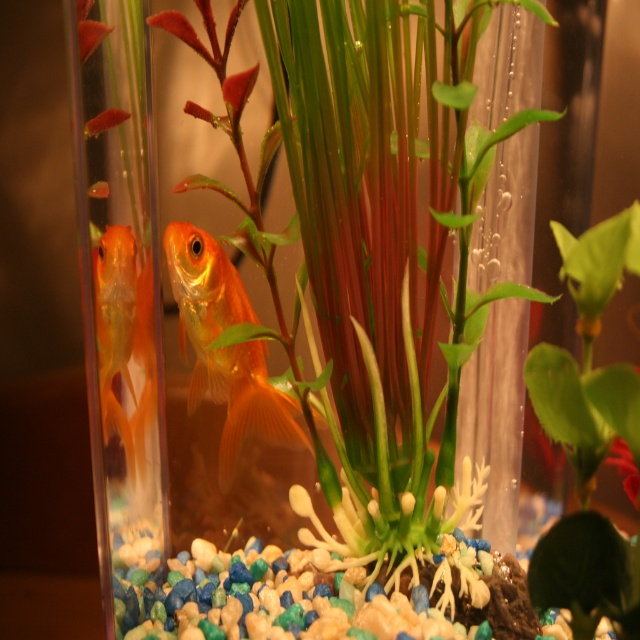Goldfish: (163, 221, 267, 392)
